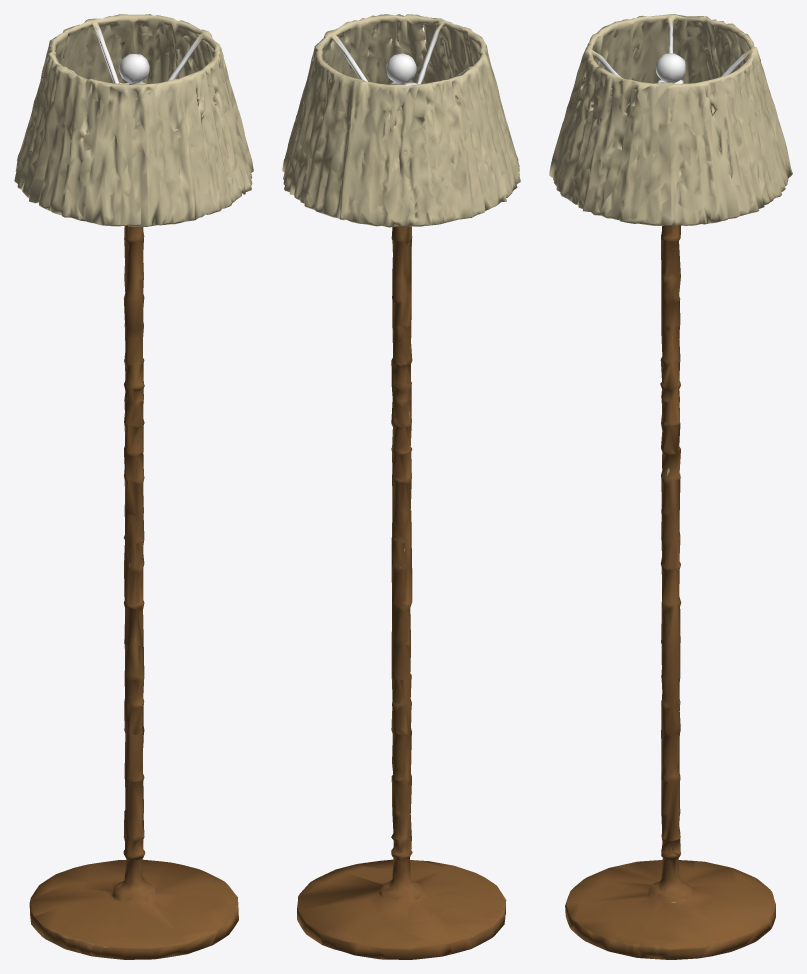
File: fm_floor_lamp_pleated.glb
The picture shows the model from 3 angles, left to right: view 1: azimuth 30°, elevation 25°; view 2: azimuth 150°, elevation 25°; view 3: azimuth 270°, elevation 25°; orthographic projection.
Visible parts, largest first — view 1: world; view 2: world; view 3: world.
Boxes of the visible parts, x1,y1,x2,y2 form: world: (14,14,253,959); world: (282,14,520,959); world: (549,14,792,959).
Size of the model in its own units: 0.4073 by 1.6 by 0.4075.
1 material, 1 textured.
